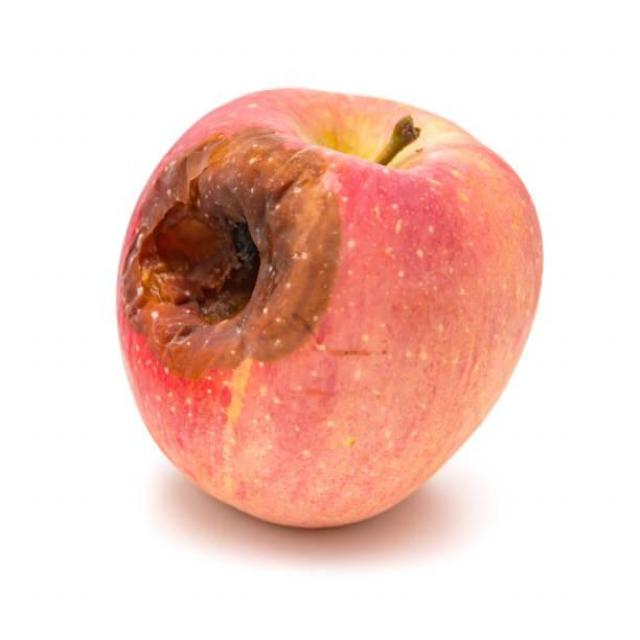Rotten: (120, 73, 537, 534)
